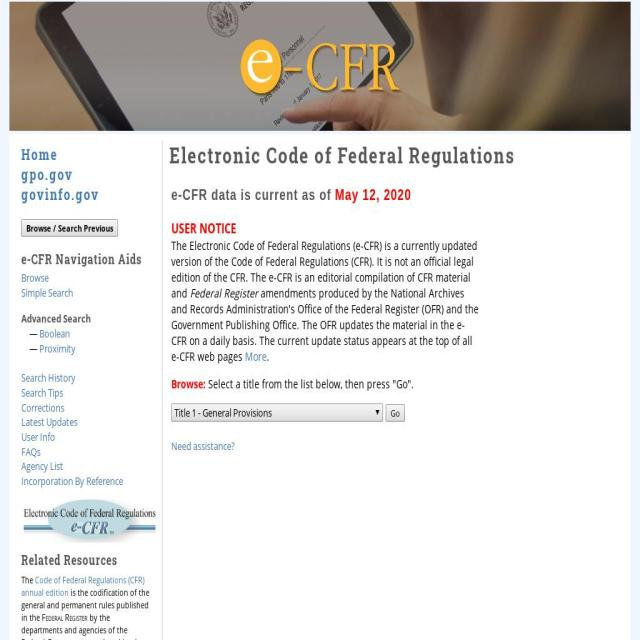field: (171, 403, 383, 422), (21, 219, 118, 238), (386, 404, 405, 423)
heading: (169, 141, 629, 170)
image: (9, 2, 630, 132), (21, 499, 159, 543)
label: (208, 376, 414, 392)
link: (22, 572, 144, 598), (22, 184, 100, 205), (21, 473, 123, 489), (21, 164, 73, 185), (171, 438, 235, 453), (22, 414, 78, 430), (21, 370, 76, 386), (21, 284, 73, 300), (22, 144, 58, 165), (21, 385, 63, 401), (22, 399, 64, 415), (21, 458, 63, 474), (38, 341, 76, 356), (21, 429, 55, 445), (38, 326, 70, 342), (21, 269, 49, 285), (245, 348, 267, 365), (21, 443, 41, 459)
text: (171, 285, 479, 365), (172, 238, 478, 302), (171, 220, 479, 238), (22, 585, 150, 623), (21, 610, 148, 640), (171, 187, 335, 204), (21, 250, 159, 268), (21, 550, 159, 568), (21, 310, 159, 327), (335, 187, 412, 204), (190, 285, 258, 302), (42, 610, 87, 623), (171, 376, 206, 392), (22, 326, 38, 342), (22, 341, 38, 356), (21, 572, 35, 586), (267, 348, 269, 365)
